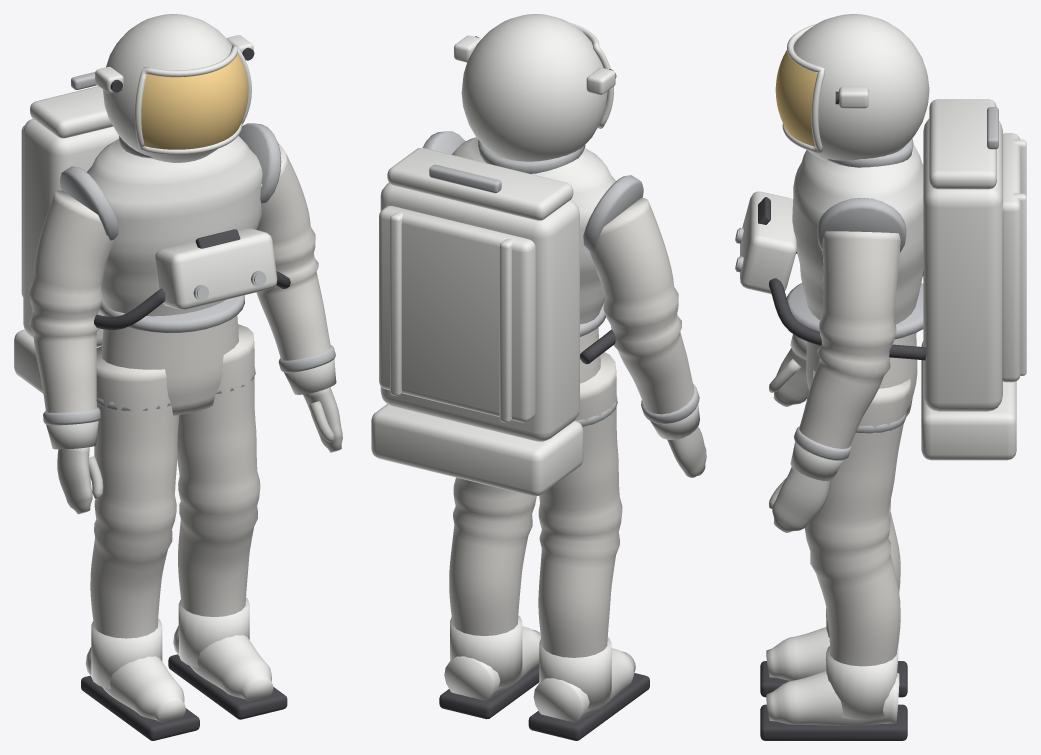
File: astronaut-v2.glb
3 views of the same model, side by side, from view 1: azimuth 30°, elevation 25°; view 2: azimuth 150°, elevation 25°; view 3: azimuth 270°, elevation 25° (orthographic). The views are drawn at different scales.
Parts seen in each view (by area): view 1: astronaut-v2; view 2: astronaut-v2; view 3: astronaut-v2.
Part boxes in pixels (box(x1,y1,x2,y2)): astronaut-v2: box(14, 14, 342, 740); astronaut-v2: box(371, 14, 706, 740); astronaut-v2: box(735, 14, 1026, 740).
Bounding box in the file's own units: 0.8481 × 1.91 × 0.7334.
